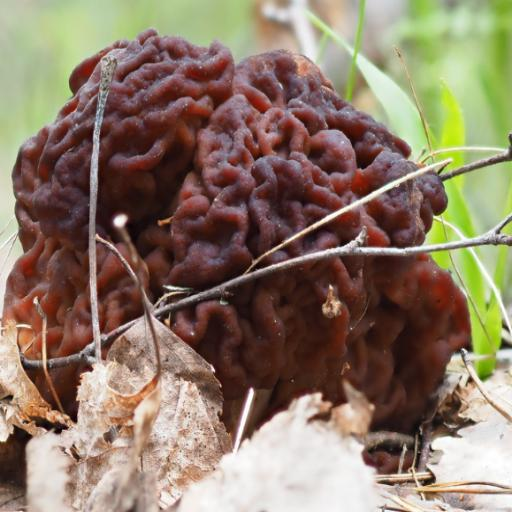mushroom: (10, 31, 476, 435)
